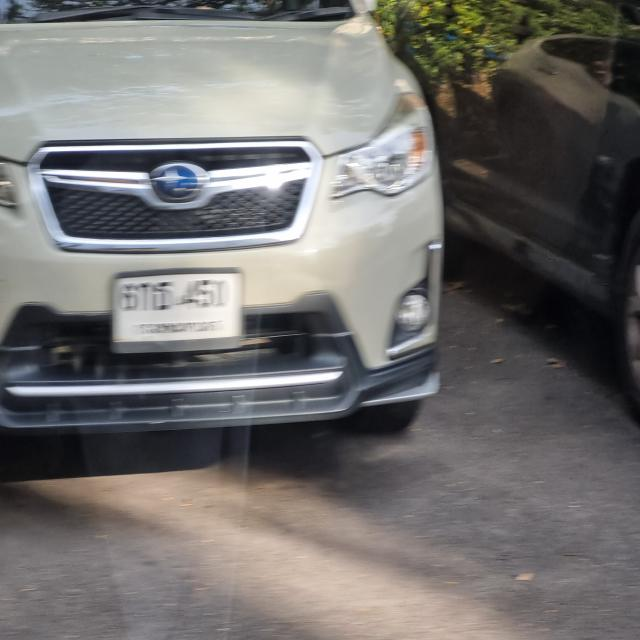license_plate: (108, 268, 246, 357)
